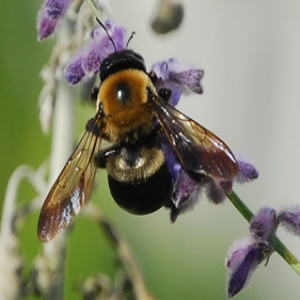bee: (35, 17, 241, 257)
